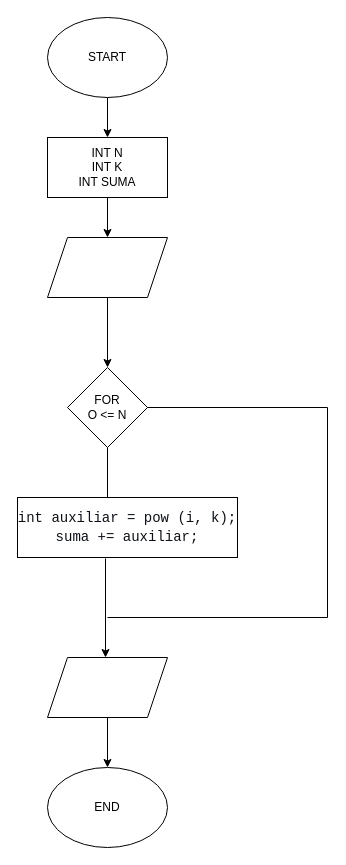
This 346x865 diagram has some shape labels left out. The shapes that lost their labels are listed below. From the top down, each one's centre as x and y in pixels, then its label:
At point 107,267: "CIN N K".
At point 107,687: "COUT SUMA".
